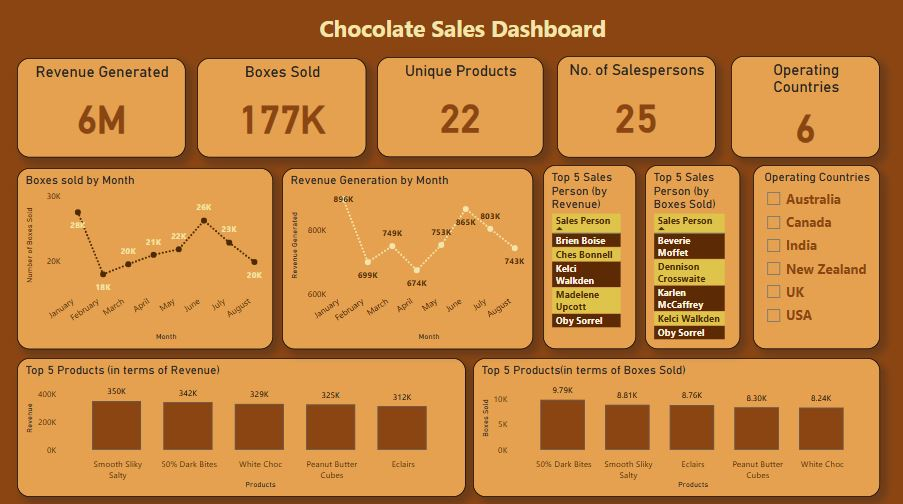

What the dashboard file says about the page in this screenshot:
{"tool":"powerbi","page":{"name":"Page 1","canvas":[1280,720],"ordinal":0},"visuals":[{"type":"card","title":"Revenue Generated","fields":{"Values":["Chocolate Sales.Total_sales"]},"box":[25.8,85.9,239.3,141.1],"z":0},{"type":"card","title":"Boxes Sold","fields":{"Values":["Chocolate Sales.Boxes Shipped"]},"box":[281,85.9,240.5,141.1],"z":1000},{"type":"card","title":"Unique Products","fields":{"Values":["Chocolate Sales.Unique_Products"]},"box":[536.2,84.7,235.6,142.3],"z":2000},{"type":"card","title":"No. of Salespersons","fields":{"Values":["Chocolate Sales.Unique_Sales_Person"]},"box":[790.2,83.4,224.5,143.6],"z":3000},{"type":"card","title":"Operating Countries","fields":{"Values":["Chocolate Sales.Unique_country"]},"box":[1038,83.4,211,143.6],"z":4000},{"type":"slicer","title":"Operating Countries","fields":{"Values":["Chocolate Sales.Country"]},"box":[1068.7,238.1,180,260.8],"z":5000},{"type":"tableEx","title":"Top 5 Sales Person (by Revenue)","fields":{"Values":["Chocolate Sales.Sales Person"]},"box":[771,238.1,131.8,260.8],"z":6000},{"type":"lineChart","title":"Boxes sold by Month","fields":{"Category":["Chocolate Sales.Date.Variation.Date Hierarchy.Month"],"Y":["Chocolate Sales.Total_quantity"]},"box":[25.5,242.4,362.8,256.5],"z":7000},{"type":"columnChart","title":"Top 5 Products (in terms of Revenue)","fields":{"Category":["Chocolate Sales.Product"],"Y":["Chocolate Sales.Total_sales"]},"box":[25.5,511.7,636.4,197],"z":8000},{"type":"columnChart","title":"Top 5 Products(in terms of Boxes Sold)","fields":{"Category":["Chocolate Sales.Product"],"Y":["Chocolate Sales.Total_Boxed"]},"box":[671.8,511.7,576.9,197],"z":9000},{"type":"tableEx","title":"Top 5 Sales Person (by Boxes Sold)","fields":{"Values":["Chocolate Sales.Sales Person"]},"box":[915.6,238.1,134.6,260.8],"z":10000},{"type":"textbox","box":[449.3,17,425.2,55.3],"z":11000},{"type":"lineChart","title":"Revenue Generation by Month","fields":{"Category":["Chocolate Sales.Date.Variation.Date Hierarchy.Month"],"Y":["Chocolate Sales.Total_sales"]},"box":[401.1,242.4,355.7,256.5],"z":12000}]}

Visuals, with their boxes in screenshot pixels (x1, y1, x2, y2), scaled from the page's 1280x720 canvas onto the 903x504 screenshot:
"Revenue Generated" card: (x1=18, y1=60, x2=187, y2=159)
"Boxes Sold" card: (x1=198, y1=60, x2=368, y2=159)
"Unique Products" card: (x1=378, y1=59, x2=544, y2=159)
"No. of Salespersons" card: (x1=557, y1=58, x2=716, y2=159)
"Operating Countries" card: (x1=732, y1=58, x2=881, y2=159)
"Operating Countries" slicer: (x1=754, y1=167, x2=881, y2=349)
"Top 5 Sales Person (by Revenue)" tableEx: (x1=544, y1=167, x2=637, y2=349)
"Boxes sold by Month" lineChart: (x1=18, y1=170, x2=274, y2=349)
"Top 5 Products (in terms of Revenue)" columnChart: (x1=18, y1=358, x2=467, y2=496)
"Top 5 Products(in terms of Boxes Sold)" columnChart: (x1=474, y1=358, x2=881, y2=496)
"Top 5 Sales Person (by Boxes Sold)" tableEx: (x1=646, y1=167, x2=741, y2=349)
textbox: (x1=317, y1=12, x2=617, y2=51)
"Revenue Generation by Month" lineChart: (x1=283, y1=170, x2=534, y2=349)
